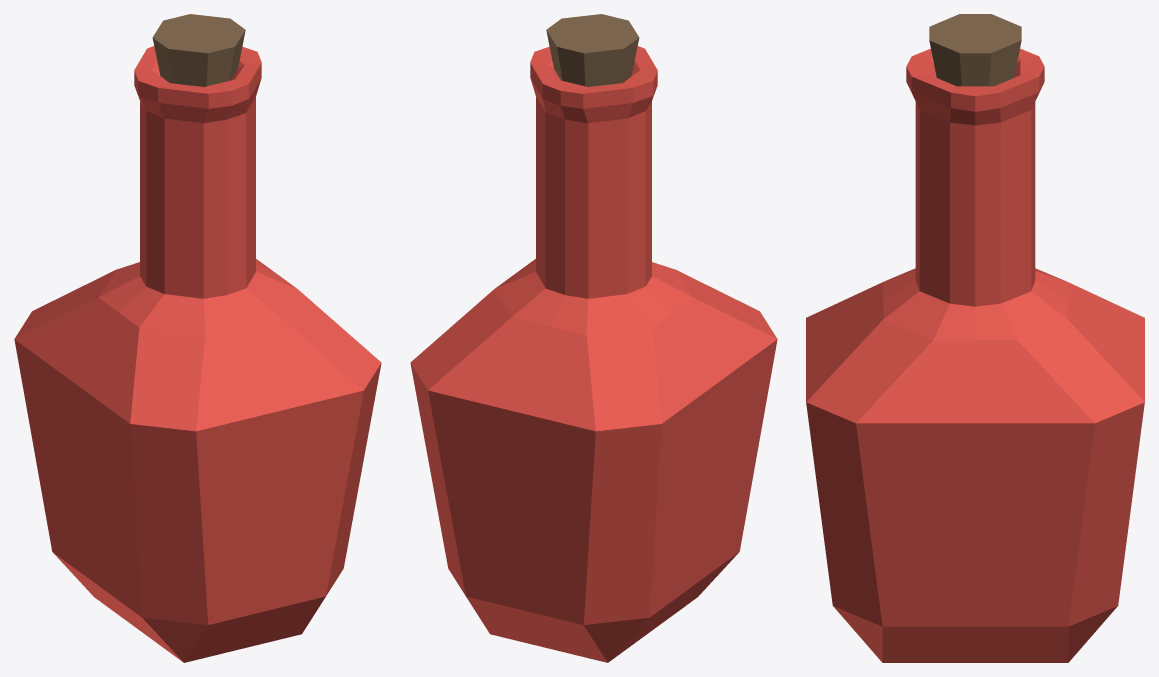
File: redBottle.glb
3 views of the same model, side by side, from view 1: azimuth 30°, elevation 25°; view 2: azimuth 150°, elevation 25°; view 3: azimuth 270°, elevation 25° (orthographic). The views are drawn at different scales.
Parts seen in each view (by area): view 1: Medium_Red_13; view 2: Medium_Red_13; view 3: Medium_Red_13.
Part boxes in pixels (<box>): Medium_Red_13: <box>14,14,381,662</box>; Medium_Red_13: <box>410,14,777,662</box>; Medium_Red_13: <box>806,14,1144,662</box>.
Bounding box in the file's own units: 0.3822 × 0.8451 × 0.4322.
